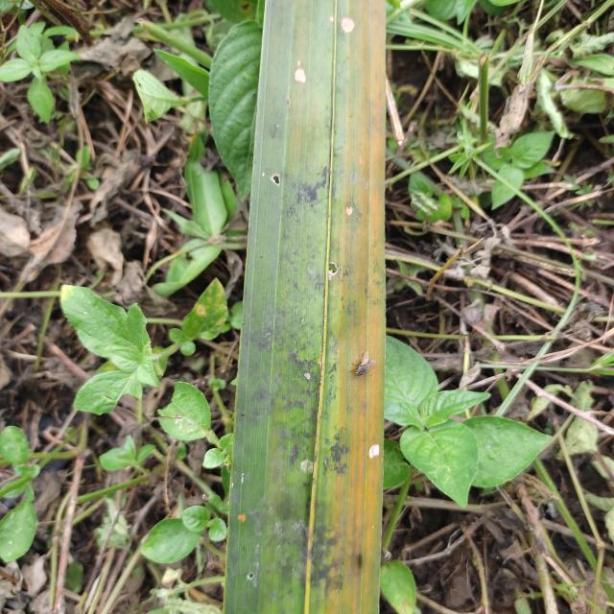Megnesium: (219, 0, 389, 614)
